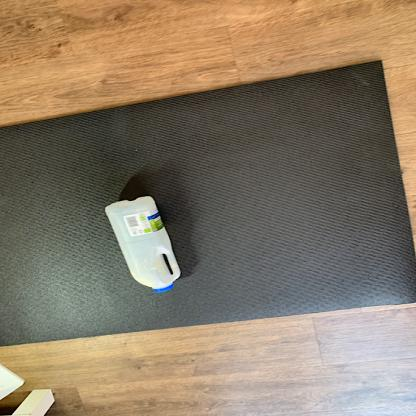trash: (104, 196, 184, 292)
